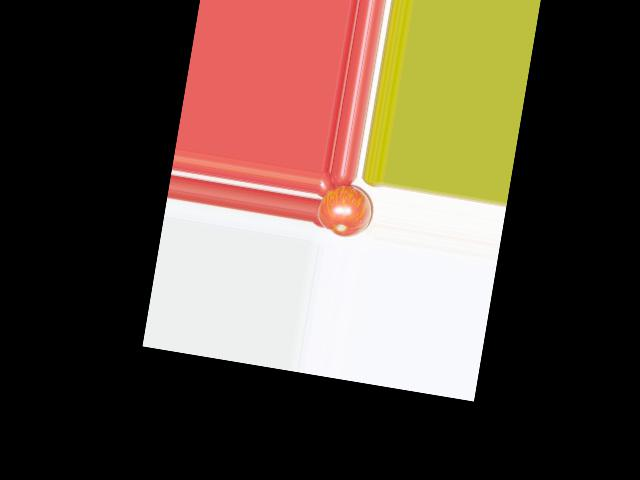tomato: (314, 180, 375, 241)
